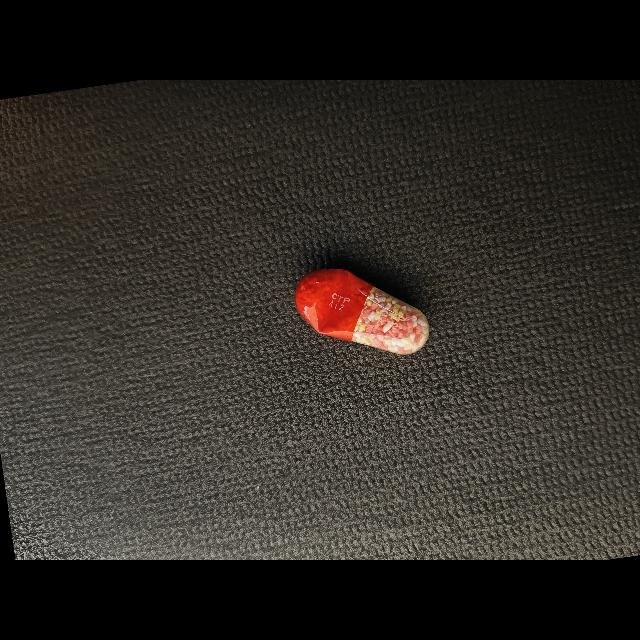Defective Capsule: (295, 269, 429, 355)
